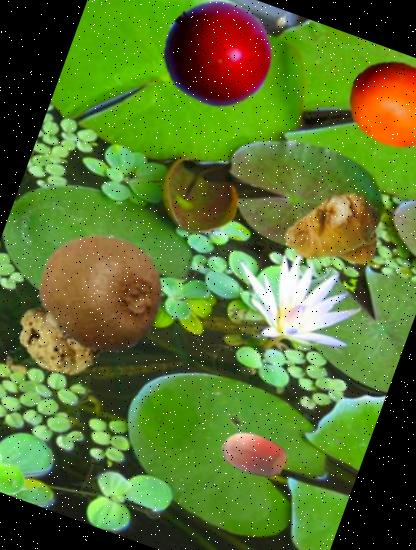Apricot: (334, 40, 416, 167)
Cauliflower: (5, 274, 120, 388)
Ginger: (271, 172, 398, 299)
Hazelnut: (209, 412, 295, 498)
Kiwi: (20, 210, 184, 374)
Tamarillo: (147, 0, 287, 124)
